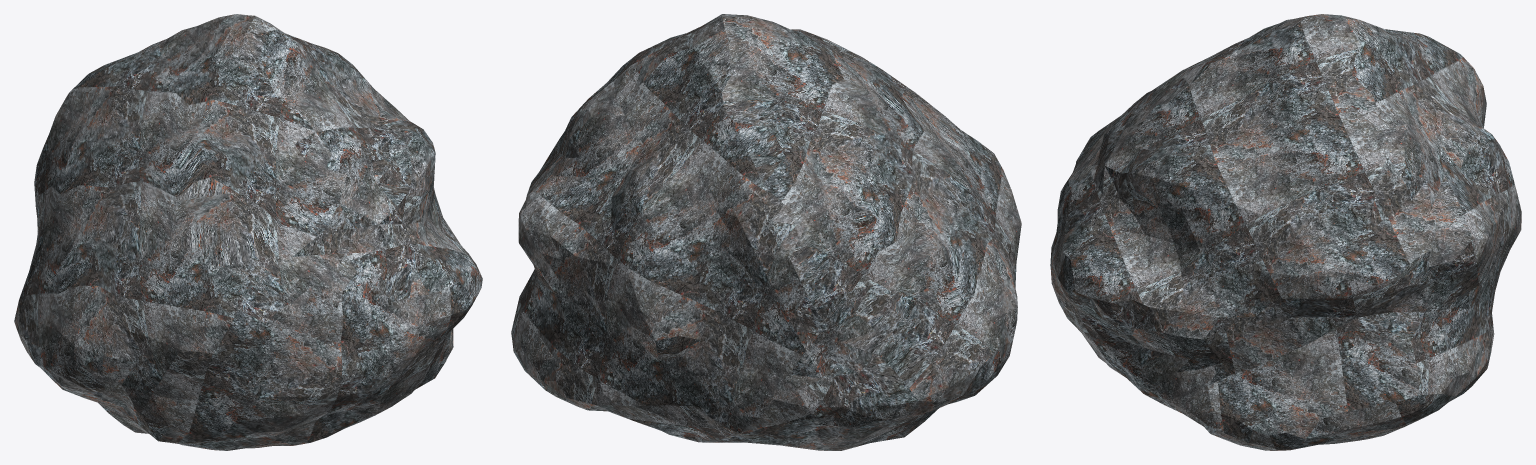
File: iron_stone.fbx
3 renders of one model, left to right at view 1: azimuth 30°, elevation 25°; view 2: azimuth 150°, elevation 25°; view 3: azimuth 270°, elevation 25°, orthographic. The views are drawn at different scales.
Visible parts, largest first — view 1: Icosphere; view 2: Icosphere; view 3: Icosphere.
Boxes of the visible parts, x1=… form: Icosphere: x1=14, y1=14, x2=482, y2=450; Icosphere: x1=511, y1=14, x2=1021, y2=450; Icosphere: x1=1050, y1=14, x2=1521, y2=450.
Size of the model in its own units: 219 by 196 by 217.
1 material, 1 textured.
